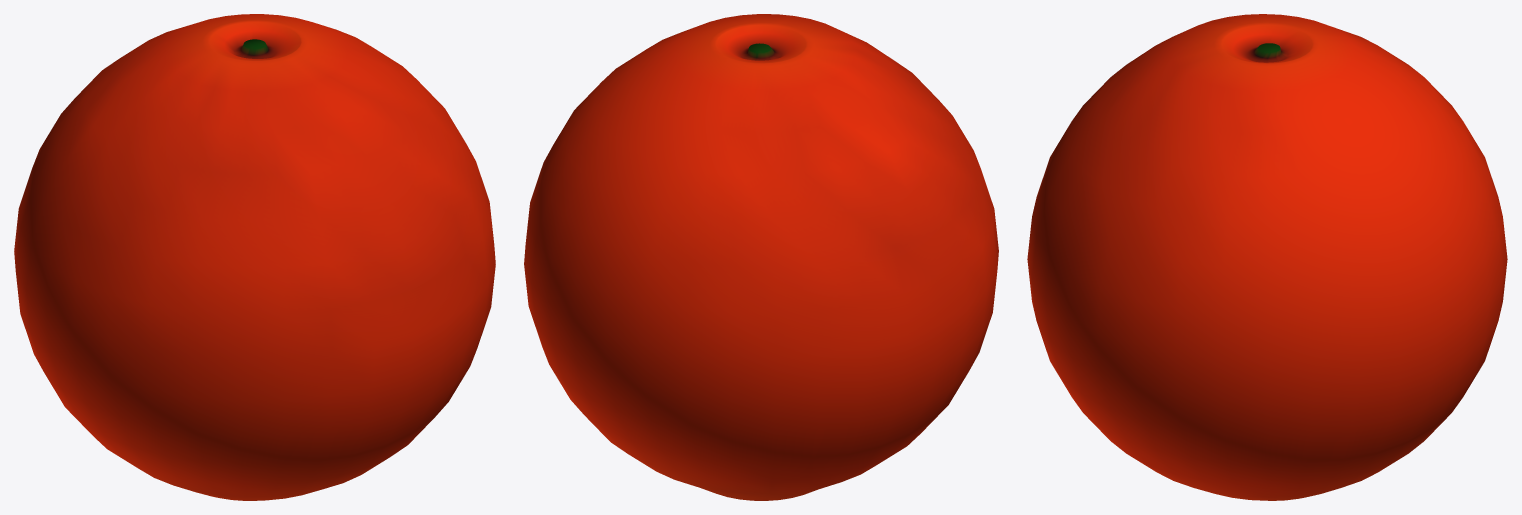
The model's file is orange.fbx.
3 views of the same model, side by side, from view 1: azimuth 30°, elevation 25°; view 2: azimuth 150°, elevation 25°; view 3: azimuth 270°, elevation 25° (orthographic).
Visible parts, largest first — view 1: Sphere; view 2: Sphere; view 3: Sphere.
Boxes of the visible parts, x1,y1,x2,y2 form: Sphere: (14,14,495,500); Sphere: (524,14,998,500); Sphere: (1027,14,1507,500).
Bounding box in the file's own units: 198 × 198 × 198.
